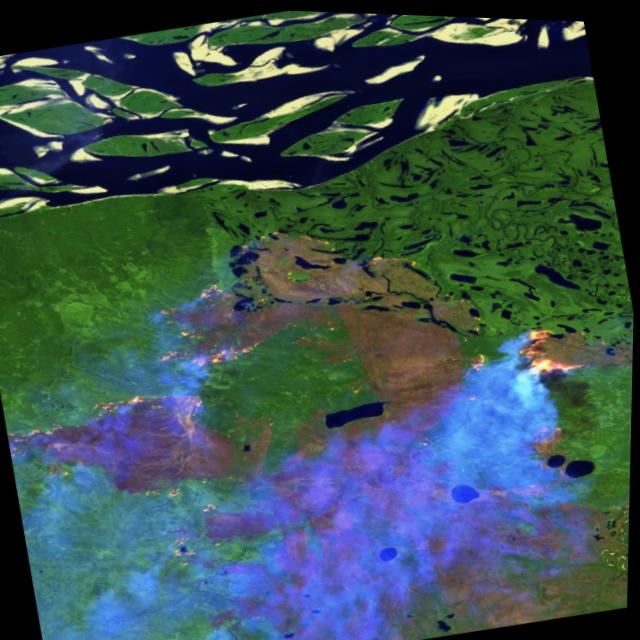fire: (2, 369, 232, 528), (447, 305, 626, 508), (145, 266, 279, 377), (153, 493, 252, 585)
